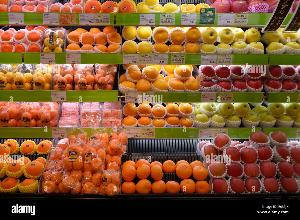apple: (204, 130, 300, 194), (204, 30, 298, 58), (200, 65, 300, 91), (195, 102, 300, 126), (213, 0, 277, 20)
orange: (43, 133, 125, 193), (121, 141, 207, 195), (0, 135, 54, 191), (121, 63, 203, 94), (53, 61, 119, 93), (124, 98, 194, 128), (65, 25, 123, 57), (0, 59, 54, 93), (61, 99, 125, 127), (0, 101, 58, 131), (1, 0, 84, 16), (0, 24, 44, 54), (153, 24, 200, 52), (121, 24, 153, 61), (82, 0, 136, 16), (138, 0, 182, 18)
